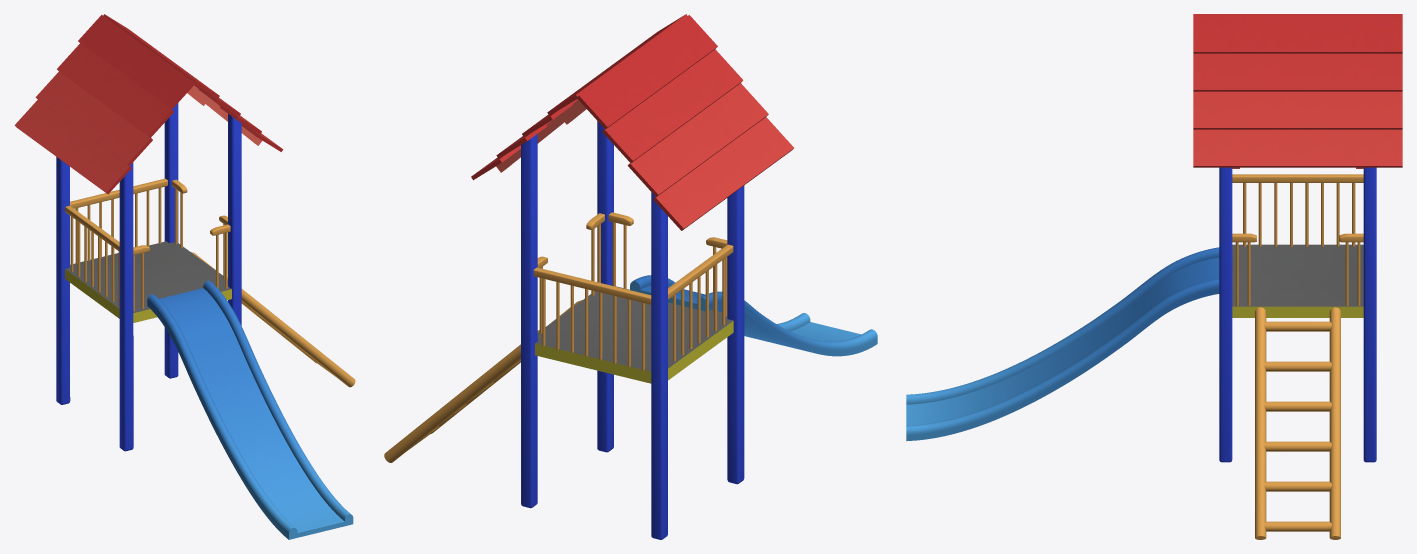
Rendered from slider.obj.
3 views of the same model, side by side, from view 1: azimuth 30°, elevation 25°; view 2: azimuth 150°, elevation 25°; view 3: azimuth 270°, elevation 25° (orthographic). The views are drawn at different scales.
Visible parts, largest first — view 1: Slider_Cube.015; view 2: Slider_Cube.015; view 3: Slider_Cube.015.
Part boxes in pixels (x1,y1,x2,y2): Slider_Cube.015: (14, 14, 355, 539); Slider_Cube.015: (384, 14, 877, 539); Slider_Cube.015: (906, 14, 1402, 539).
Bounding box in the file's own units: 2.8 × 3.58 × 3.8.
